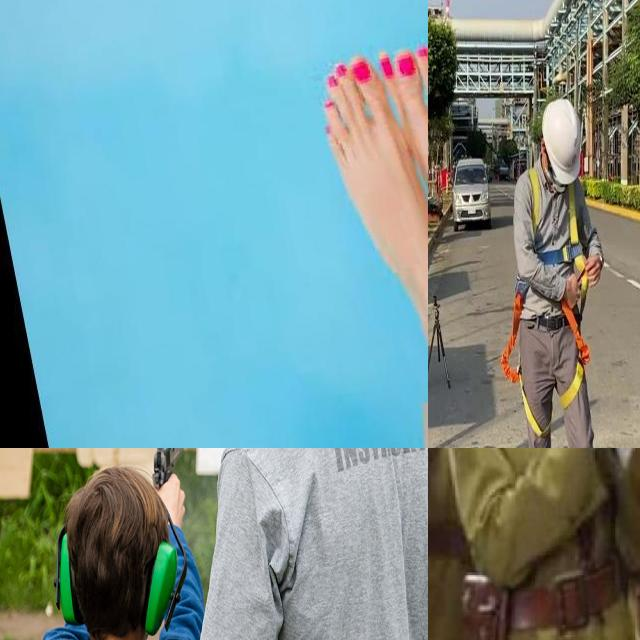Barefoots: (313, 36, 428, 410), (391, 10, 428, 388)
Ear-protection: (141, 538, 179, 638), (55, 530, 75, 626)
Harness: (529, 168, 589, 298), (501, 289, 551, 438), (560, 300, 591, 410)
person: (207, 448, 428, 640), (449, 448, 640, 640)
